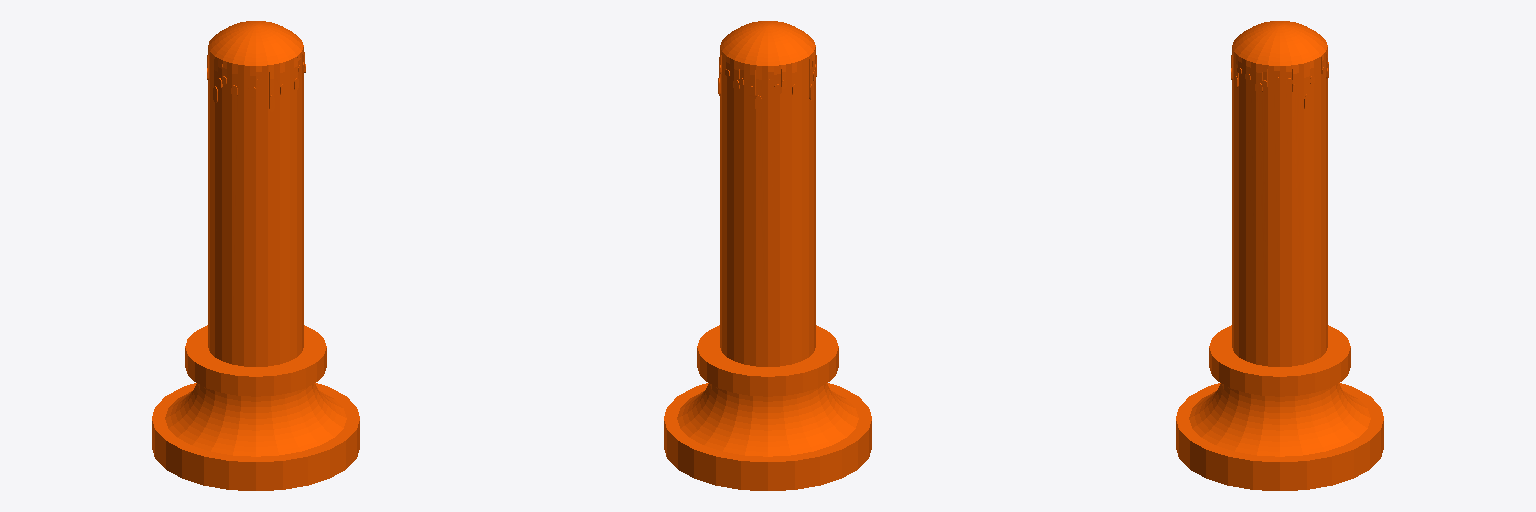
robot.urdf — Candle_1be58678b919b12bc5fe7f65b41f3b19:
<?xml version="1.0" ?>
<robot name="Candle_1be58678b919b12bc5fe7f65b41f3b19">
   <material name="obj_color">
      <color rgba="1.0 0.423529411765 0.0392156862745 1.0"/>
   </material>
   <link name="top">
      <inertial>
         <origin rpy="0.0002689884053185813 0.001188276608670023 0.001188303097307403" xyz="0.0002071689072123697 -0.0003036592023022392 -0.01149584206229079"/>
         <mass value="0.4926557169607048"/>
         <inertia ixx="0.001188283634679828" ixy="1.169304284307208e-08" ixz="1.72734673061173e-08" iyy="0.001188296068393821" iyz="4.869403514644599e-08" izz="0.000268988408222358"/>
      </inertial>
      <visual>
         <origin rpy="0 0 0" xyz="0 0 0"/>
         <geometry>
            <mesh filename="top_watertight_tiny.stl" scale="1 1 1"/>
         </geometry>
         <material name="obj_color"/>
      </visual>
      <collision>
         <origin rpy="0 0 0" xyz="0 0 0"/>
         <geometry>
            <mesh filename="top_watertight_tiny.obj" scale="1 1 1"/>
         </geometry>
      </collision>
   </link>
   <link name="bottom">
      <inertial>
         <origin rpy="1.633333333199431e-08 1.633333333199431e-08 1.633333333362855e-08" xyz="0.3464080000000008 0.3464080000000008 0.3464080000000008"/>
         <mass value="0.0009800000000000017"/>
         <inertia ixx="1.633333333253906e-08" ixy="5.447480642029219e-19" ixz="5.447480642029219e-19" iyy="1.633333333253906e-08" iyz="5.447480642029219e-19" izz="1.633333333253906e-08"/>
      </inertial>
      <visual>
         <origin rpy="0 0 0" xyz="0 0 0"/>
         <geometry>
            <mesh filename="bottom_watertight_tiny.stl" scale="1 1 1"/>
         </geometry>
         <material name="obj_color"/>
      </visual>
   </link>
   <joint name="rotation" type="revolute">
      <origin xyz="0 0 0"/>
      <axis xyz="0 0 -1"/>
      <parent link="bottom"/>
      <child link="top"/>
      <dynamics damping="1.0" friction="1.0"/>
      <limit effort="0.1" velocity="0.1" lower="0" upper="0.001"/>
   </joint>
</robot>

--- Render facts (derived) ---
3 views of the same robot in one strip: view 1: azimuth 30°, elevation 25°; view 2: azimuth 150°, elevation 25°; view 3: azimuth 270°, elevation 25° (orthographic).
Model Candle_1be58678b919b12bc5fe7f65b41f3b19 with 2 links and 1 joints (1 revolute), rooted at bottom, posed every joint at zero.
Visible links, largest first — view 1: top; view 2: top; view 3: top.
Boxes of the visible links, x1,y1,x2,y2 form: top: (152, 21, 359, 490); top: (664, 21, 871, 490); top: (1176, 21, 1383, 490).
Size in the robot's own frame: 0.0801 by 0.0801 by 0.1786 metres.
Meshes: 2 distinct files referenced, 1 mesh visuals loaded (1 binary STL); not drawn: 1 (reference not matched to a file when rendering).
